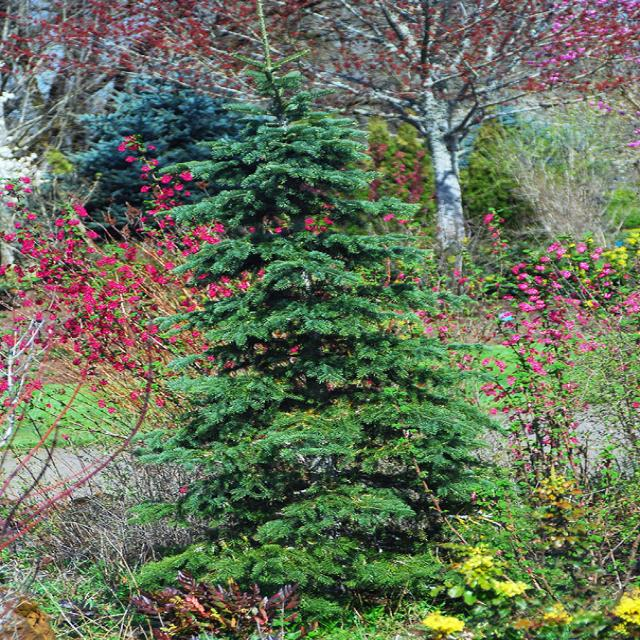Abies: (121, 0, 504, 591)
